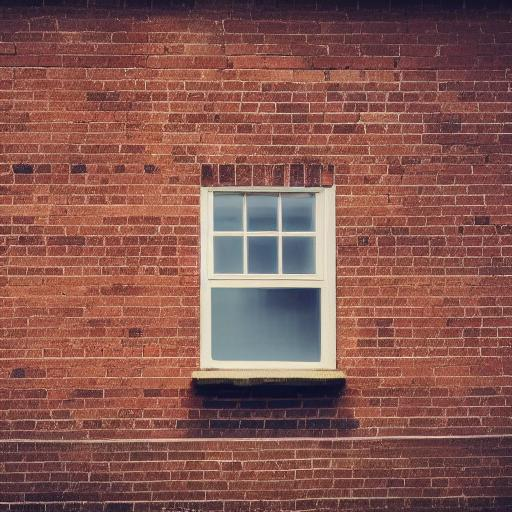Window: (191, 166, 349, 391)
